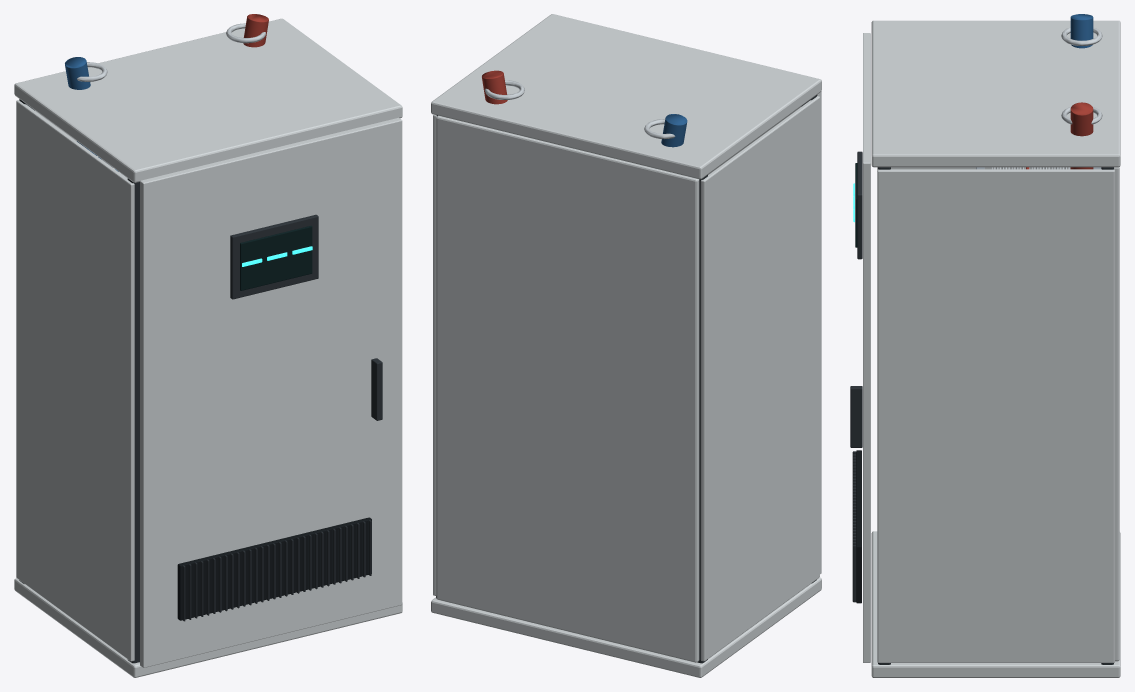
The model's file is CDU.glb.
3 renders of one model, left to right at view 1: azimuth 30°, elevation 25°; view 2: azimuth 150°, elevation 25°; view 3: azimuth 270°, elevation 25°, orthographic. The views are drawn at different scales.
Parts seen in each view (by area): view 1: Door, Left_panel, Cabinet_frame, Pipework_valves_and_instruments; view 2: Cabinet_frame, Left_panel, Right_panel, Pipework_valves_and_instruments, Door; view 3: Right_panel, Cabinet_frame, Door, Pipework_valves_and_instruments.
Part boxes in pixels (<box>): Door: <box>140,117,402,667</box>; Left_panel: <box>16,100,134,661</box>; Cabinet_frame: <box>14,18,402,677</box>; Pipework_valves_and_instruments: <box>65,14,268,171</box>; Cabinet_frame: <box>431,14,821,677</box>; Left_panel: <box>700,96,819,661</box>; Right_panel: <box>433,114,436,595</box>; Pipework_valves_and_instruments: <box>482,70,687,147</box>; Door: <box>708,91,821,573</box>; Right_panel: <box>877,169,1114,662</box>; Cabinet_frame: <box>871,20,1120,677</box>; Door: <box>850,33,870,662</box>; Pipework_valves_and_instruments: <box>1026,14,1102,169</box>.
Size of the model in its own units: 1.13 by 2.12 by 0.9445.
